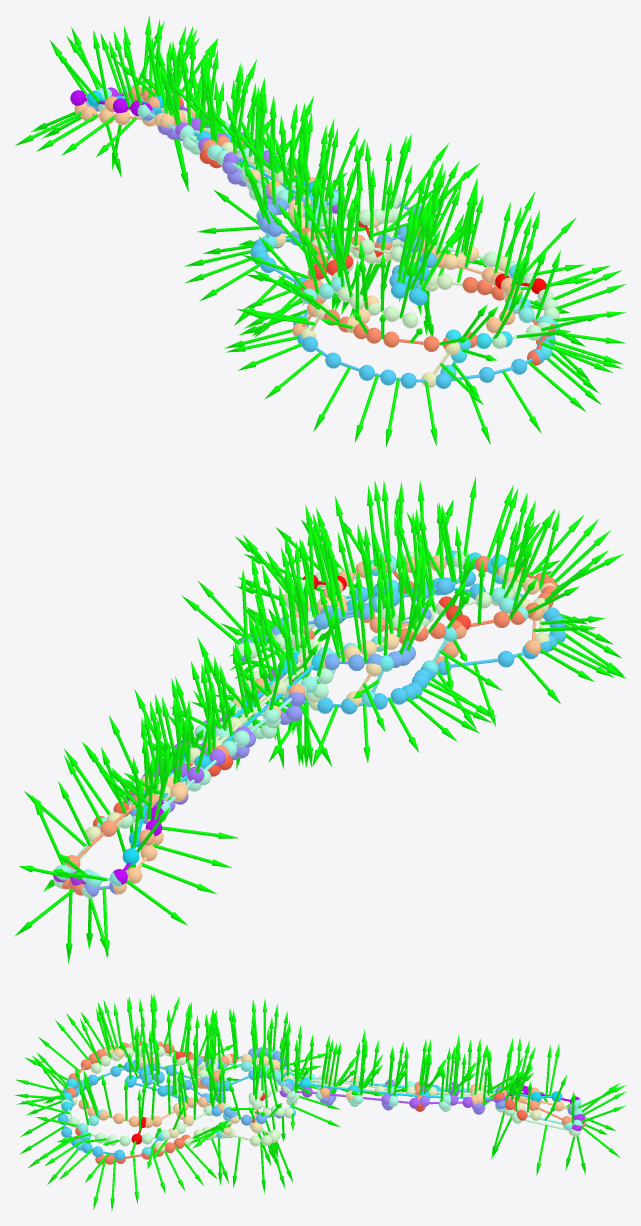
Rendered from author2_guitar.gltf.
3 renders of one model, top to bottom at view 1: azimuth 30°, elevation 25°; view 2: azimuth 150°, elevation 25°; view 3: azimuth 270°, elevation 25°, orthographic. The views are drawn at different scales.
Bounding box in the file's own units: 0.5213 × 0.2934 × 1.11.
